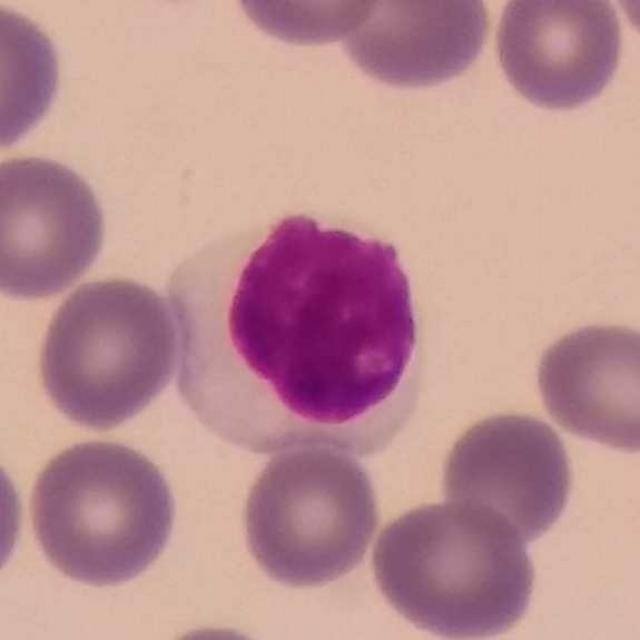Lymphocyte: (159, 202, 431, 459)
RBC: (22, 433, 183, 592), (366, 494, 541, 640), (31, 271, 185, 435), (235, 441, 384, 592), (435, 405, 579, 547), (0, 148, 112, 302), (487, 0, 629, 117), (528, 313, 640, 457), (330, 0, 496, 95), (0, 1, 70, 157), (226, 0, 391, 51), (0, 440, 30, 598), (140, 617, 296, 640), (605, 0, 640, 49)
